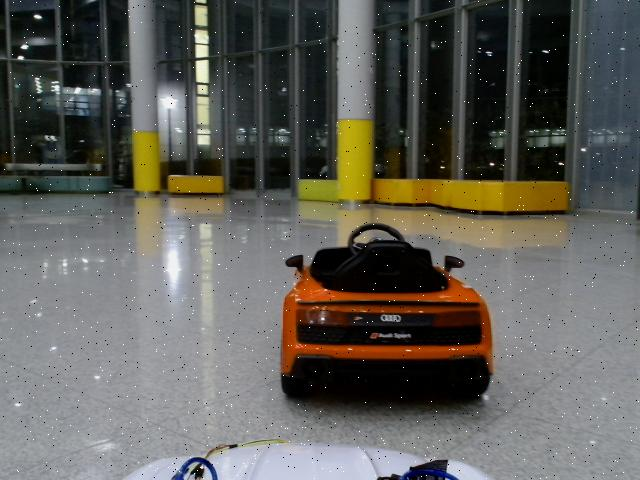car: (280, 223, 494, 400)
